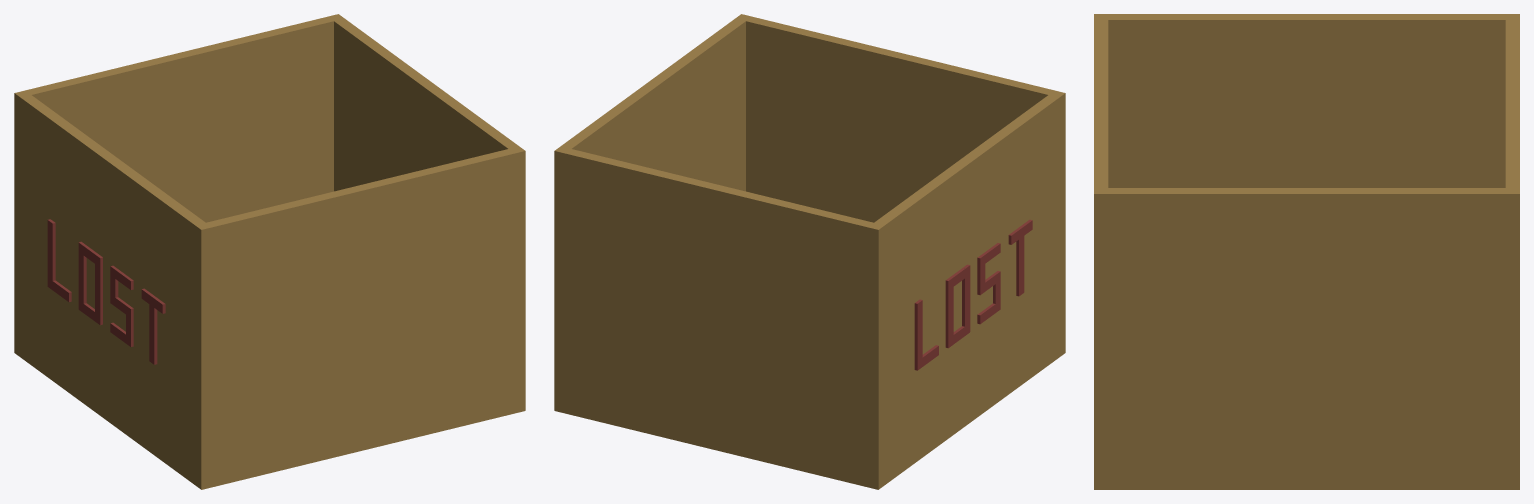
Rendered from lost prop box.fbx.
3 views of the same model, side by side, from view 1: azimuth 30°, elevation 25°; view 2: azimuth 150°, elevation 25°; view 3: azimuth 270°, elevation 25° (orthographic). The views are drawn at different scales.
Visible parts, largest first — view 1: Cube; view 2: Cube; view 3: Cube.
Part boxes in pixels (<box>): Cube: <box>14,14,525,489</box>; Cube: <box>554,14,1065,489</box>; Cube: <box>1094,14,1519,489</box>.
Bounding box in the file's own units: 242 × 184 × 240.
